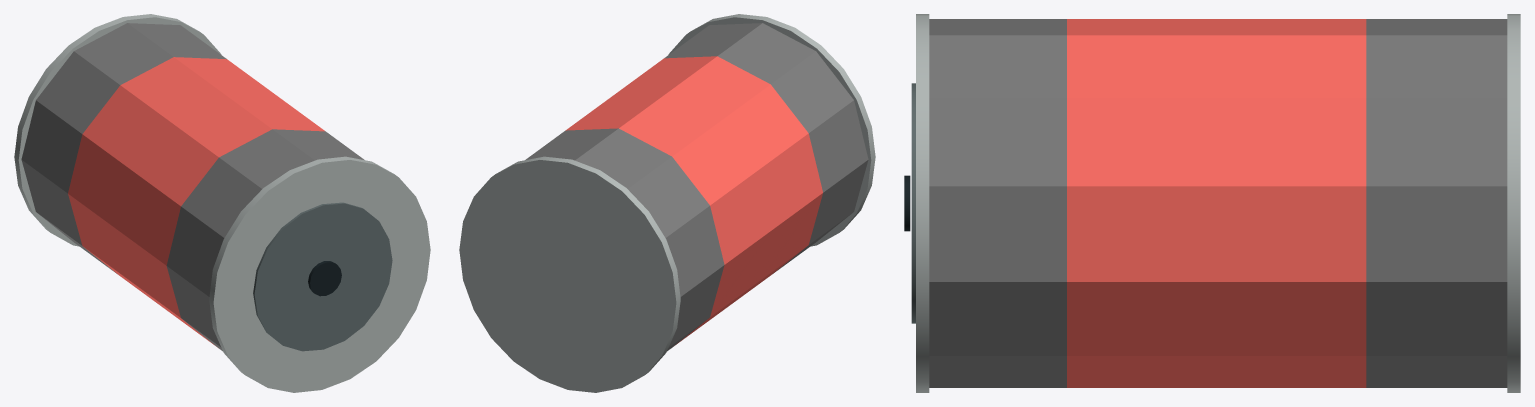
The model's file is TEARGAS.glb.
3 renders of one model, left to right at view 1: azimuth 30°, elevation 25°; view 2: azimuth 150°, elevation 25°; view 3: azimuth 270°, elevation 25°, orthographic. The views are drawn at different scales.
Visible parts, largest first — view 1: TEARGAS | archived geometry, TEARGAS | canister rolled lips and end-cap plug; view 2: TEARGAS | archived geometry, TEARGAS | canister rolled lips and end-cap plug; view 3: TEARGAS | archived geometry, TEARGAS | canister rolled lips and end-cap plug.
Boxes of the visible parts, left/top/right/bottom form: TEARGAS | archived geometry: left=21, top=23, right=364, bottom=351; TEARGAS | canister rolled lips and end-cap plug: left=14, top=14, right=430, bottom=392; TEARGAS | archived geometry: left=525, top=23, right=868, bottom=351; TEARGAS | canister rolled lips and end-cap plug: left=459, top=14, right=875, bottom=392; TEARGAS | archived geometry: left=929, top=19, right=1507, bottom=387; TEARGAS | canister rolled lips and end-cap plug: left=904, top=14, right=1520, bottom=392.
Size of the model in its own units: 0.258 by 0.258 by 0.418.
